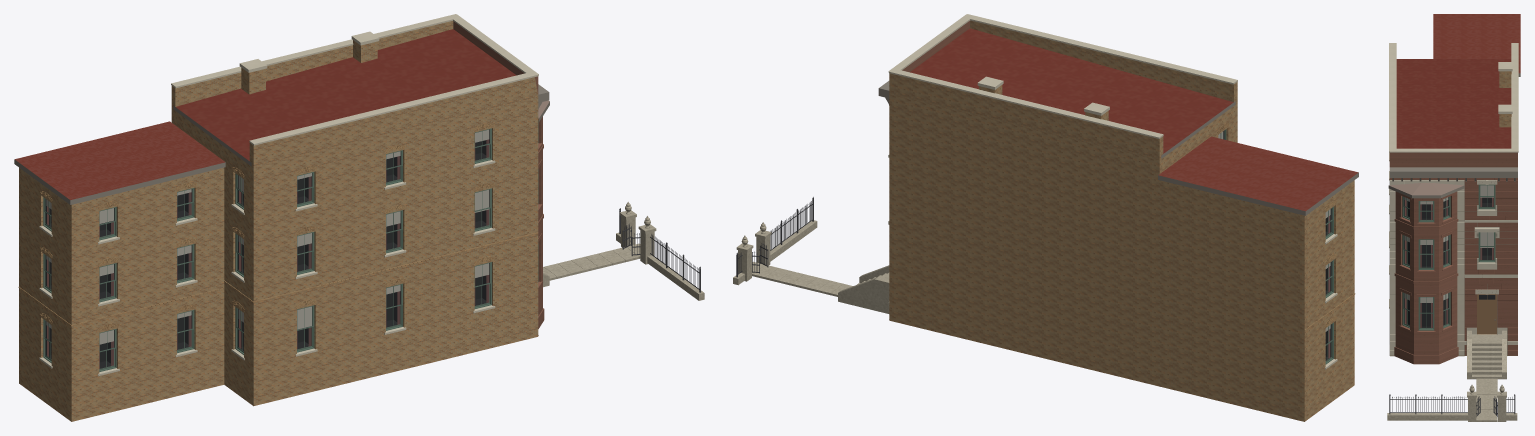
The model's file is house_1636_prairie__as_mapped_1904.glb.
The picture shows the model from 3 angles, left to right: view 1: azimuth 30°, elevation 25°; view 2: azimuth 150°, elevation 25°; view 3: azimuth 270°, elevation 25°; orthographic projection. The views are drawn at different scales.
Parts seen in each view (by area): view 1: house_1636_prairie__as_mapped_1904; view 2: house_1636_prairie__as_mapped_1904; view 3: house_1636_prairie__as_mapped_1904.
Boxes of the visible parts, left/top/right/bottom form: house_1636_prairie__as_mapped_1904: left=14, top=14, right=704, bottom=421; house_1636_prairie__as_mapped_1904: left=733, top=14, right=1358, bottom=421; house_1636_prairie__as_mapped_1904: left=1387, top=14, right=1520, bottom=421.
Bounding box in the file's own units: 32.99 × 14.07 × 7.98.
23 materials, 12 textured.
